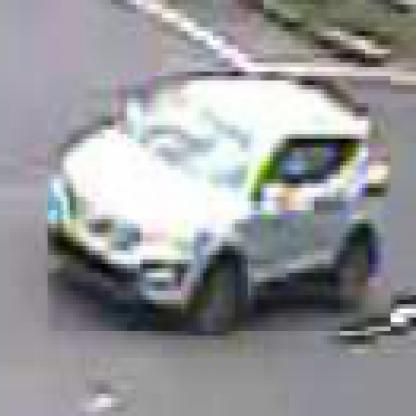car: (46, 77, 392, 337)
